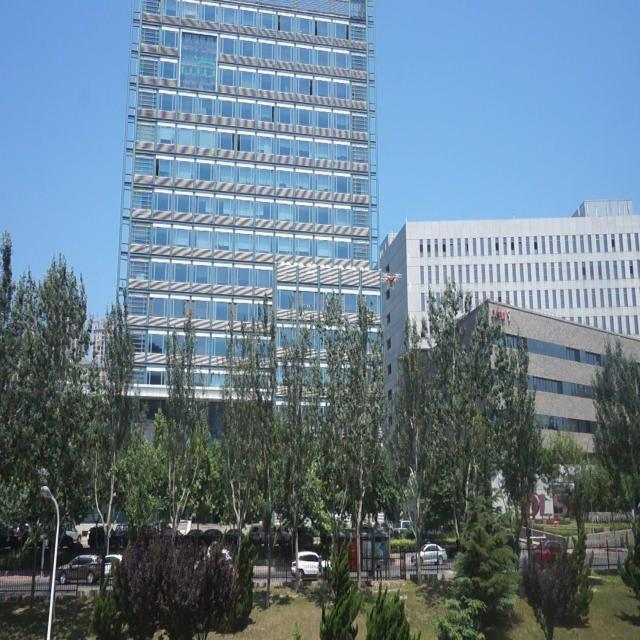drone: (380, 267, 402, 298)
